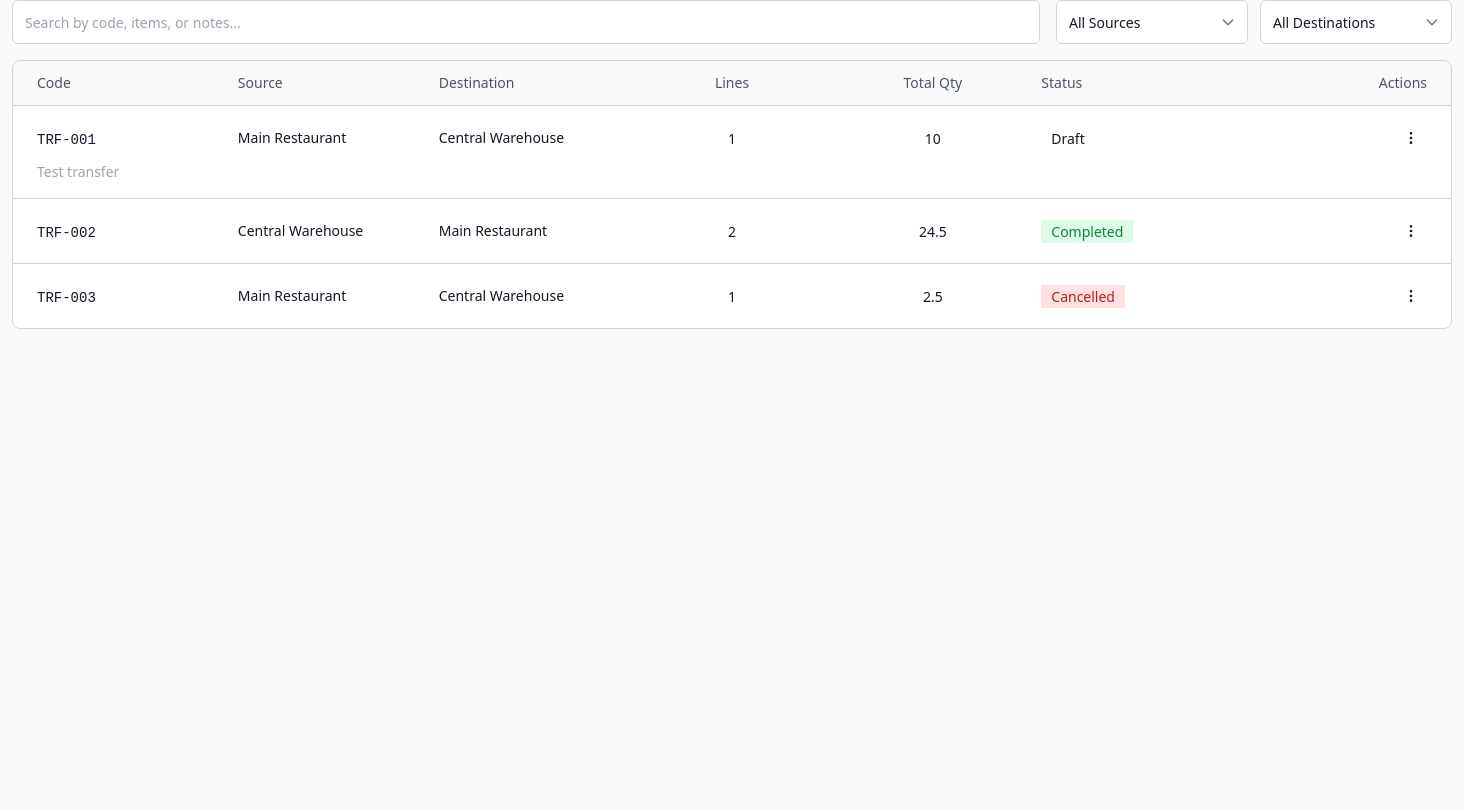
Test: TransfersList › Actions › should show correct actions for draft transfer
# Find and click the actions button for draft transfer
Click the button named "More actions" in the row of "Draft" at coordinates (1411, 138), box [1395, 122, 1427, 154]
(page scrolled)
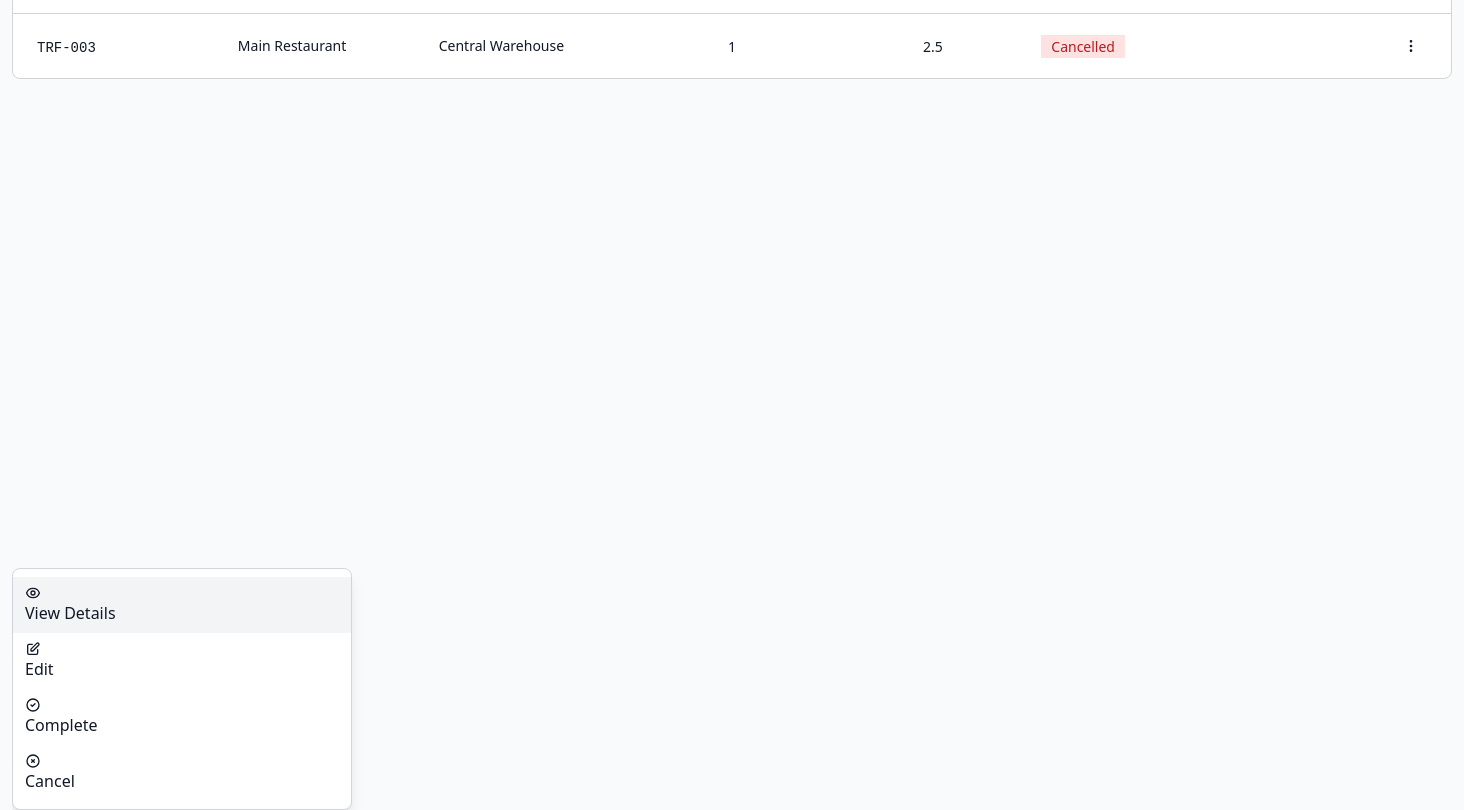
Now the menu item "View Details" is shown, box [13, 577, 350, 633]
Now the menu item "Edit" is shown, box [13, 633, 350, 689]
Now the menu item "Complete" is shown, box [13, 689, 350, 745]
